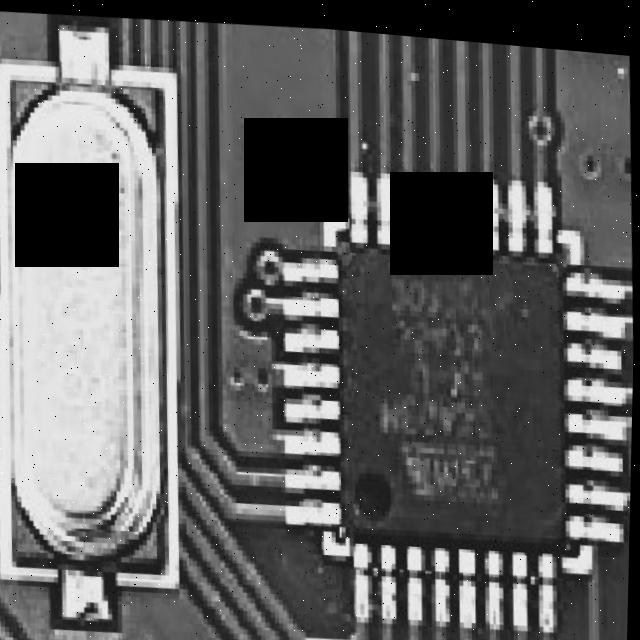IC: (297, 182, 620, 608)
clock Q1: (0, 55, 187, 588)
